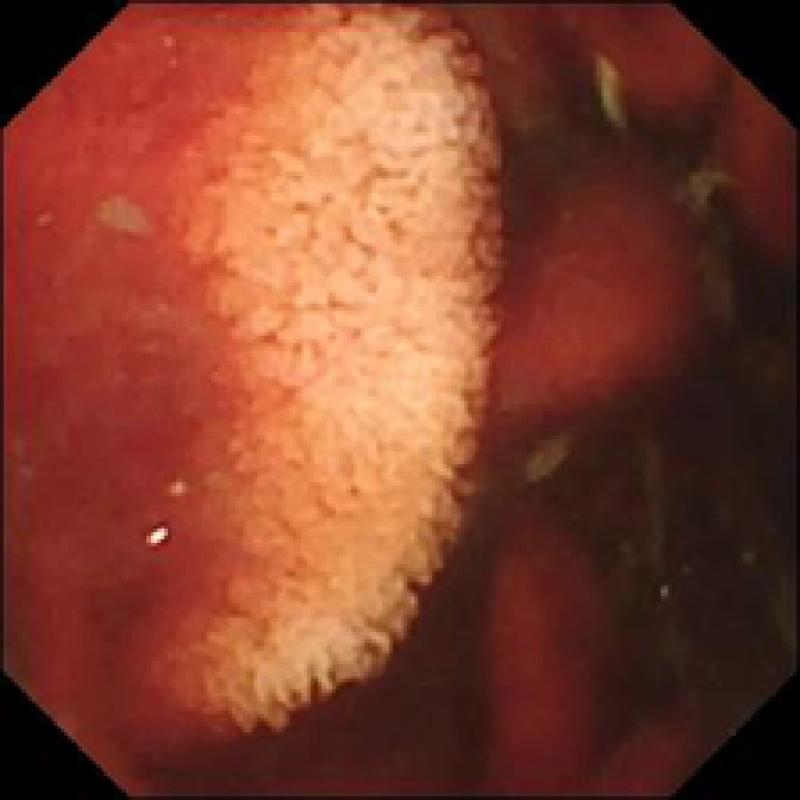bleeding: (0, 26, 256, 735), (493, 0, 800, 425), (490, 520, 682, 800)
